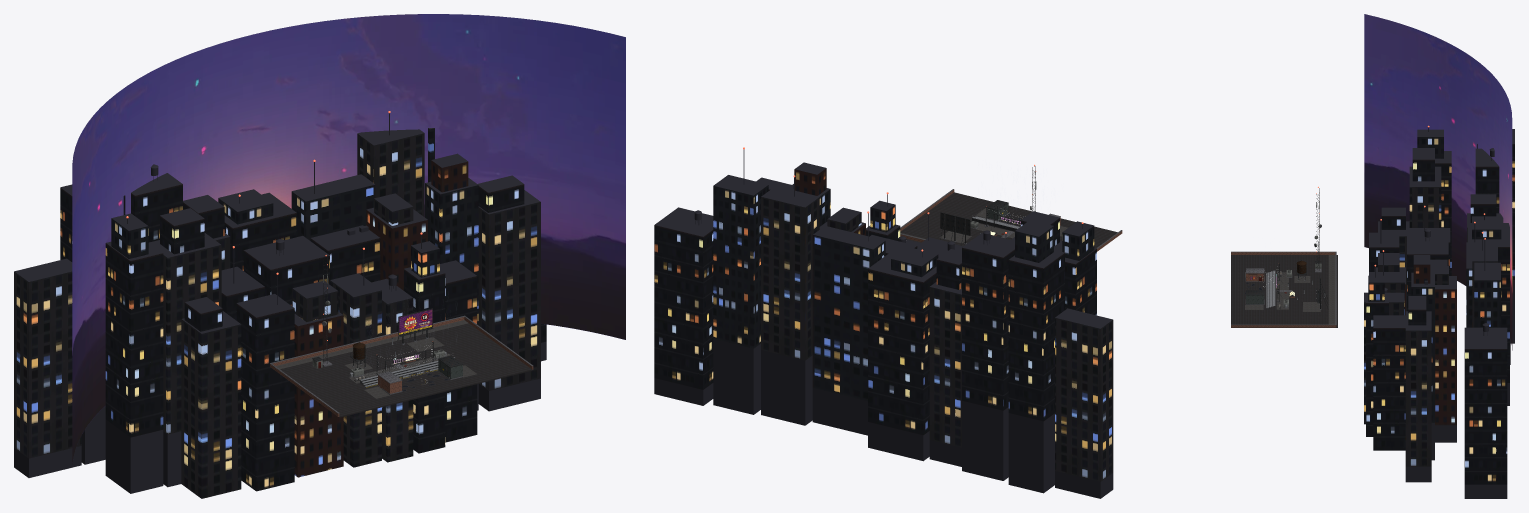
The model's file is rooftop.glb.
3 views of the same model, side by side, from view 1: azimuth 30°, elevation 25°; view 2: azimuth 150°, elevation 25°; view 3: azimuth 270°, elevation 25° (orthographic). The views are drawn at different scales.
Parts seen in each view (by area): view 1: rooftop_set; view 2: rooftop_set; view 3: rooftop_set.
Part boxes in pixels (x1,y1,x2,y2): rooftop_set: [14, 14, 625, 498]; rooftop_set: [654, 147, 1122, 498]; rooftop_set: [1231, 14, 1514, 498].
Size of the model in its own units: 184 by 116 by 106.
31 materials, 19 textured.
